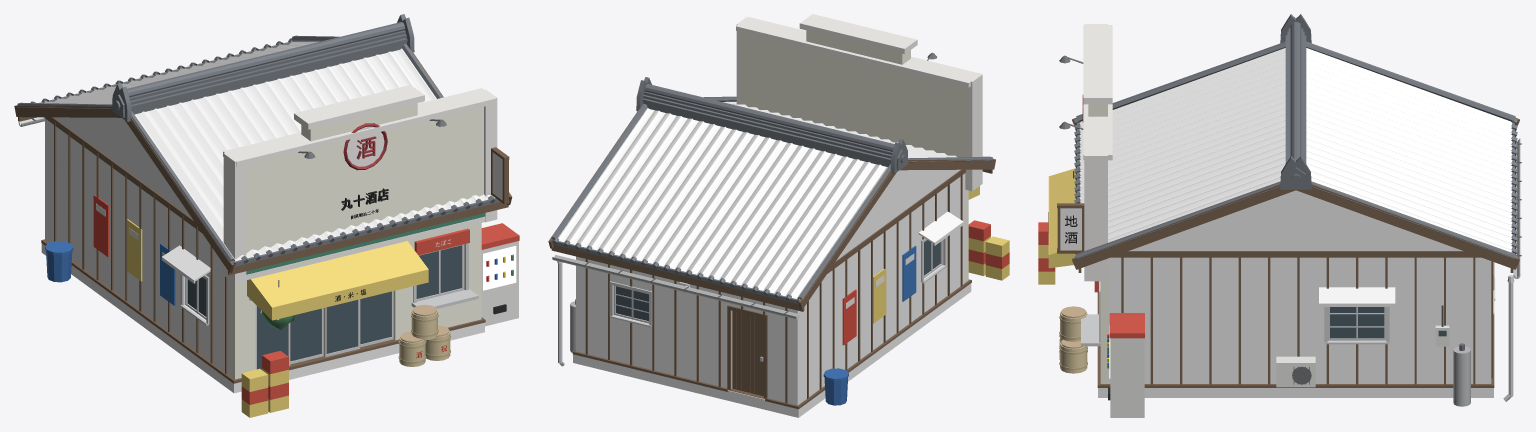
File: shop_sake.glb
3 renders of one model, left to right at view 1: azimuth 30°, elevation 25°; view 2: azimuth 150°, elevation 25°; view 3: azimuth 270°, elevation 25°, orthographic. The views are drawn at different scales.
Visible parts, largest first — view 1: shop_sake_body; view 2: shop_sake_body; view 3: shop_sake_body.
Part boxes in pixels (x1,y1,x2,y2): shop_sake_body: (14,14,519,417); shop_sake_body: (548,14,1009,417); shop_sake_body: (1038,14,1521,417).
Size of what is drawn, in the model's own units: 7.68 by 6.03 by 9.89.
